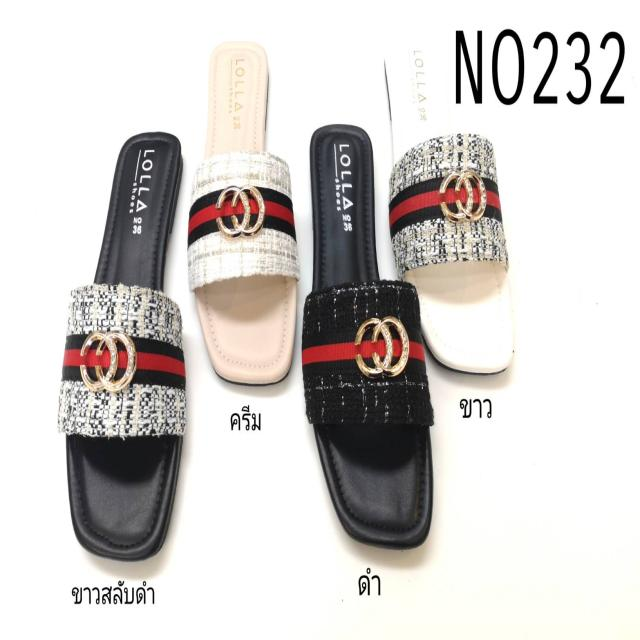black: (299, 119, 437, 554)
cream: (189, 41, 299, 388)
white: (380, 40, 520, 380)
white-black: (64, 128, 191, 555)
